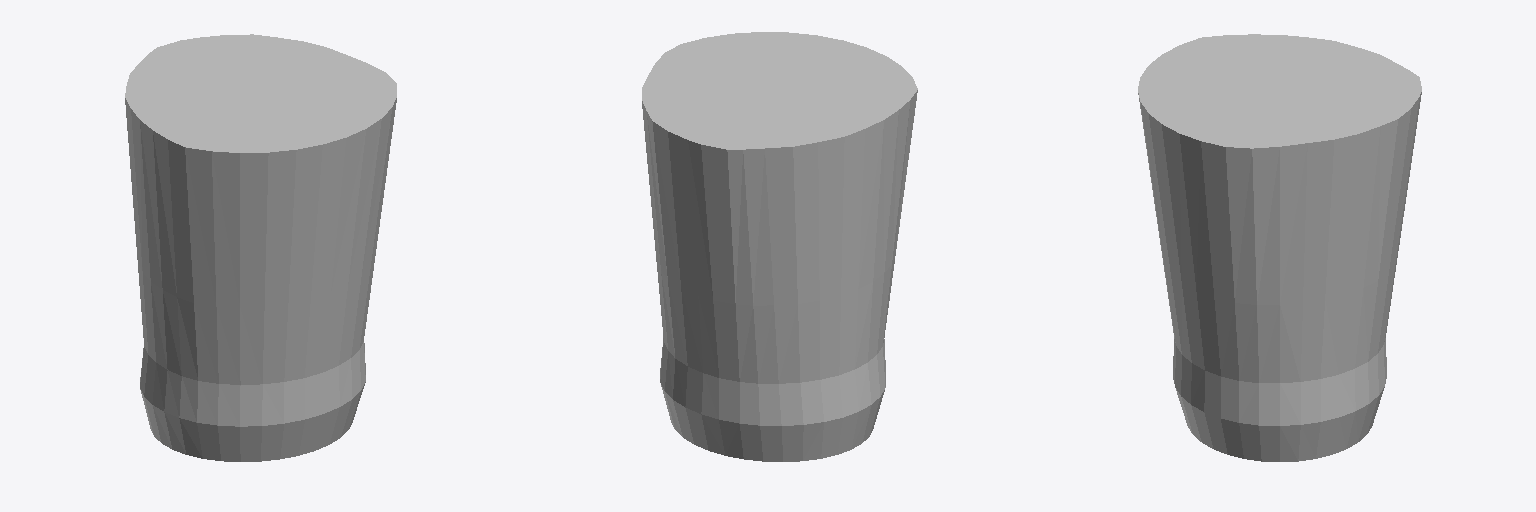
Rendered from pierna_izq_arriba.obj.
The picture shows the model from 3 angles: view 1: azimuth 30°, elevation 25°; view 2: azimuth 150°, elevation 25°; view 3: azimuth 270°, elevation 25°; orthographic projection.
Visible parts, largest first — view 1: Cilindro.004; view 2: Cilindro.004; view 3: Cilindro.004.
Part boxes in pixels (x1,y1,x2,y2): Cilindro.004: (125, 34, 396, 461); Cilindro.004: (642, 32, 917, 461); Cilindro.004: (1138, 34, 1421, 461).
Size of the model in its own units: 0.2173 by 0.2916 by 0.2287.